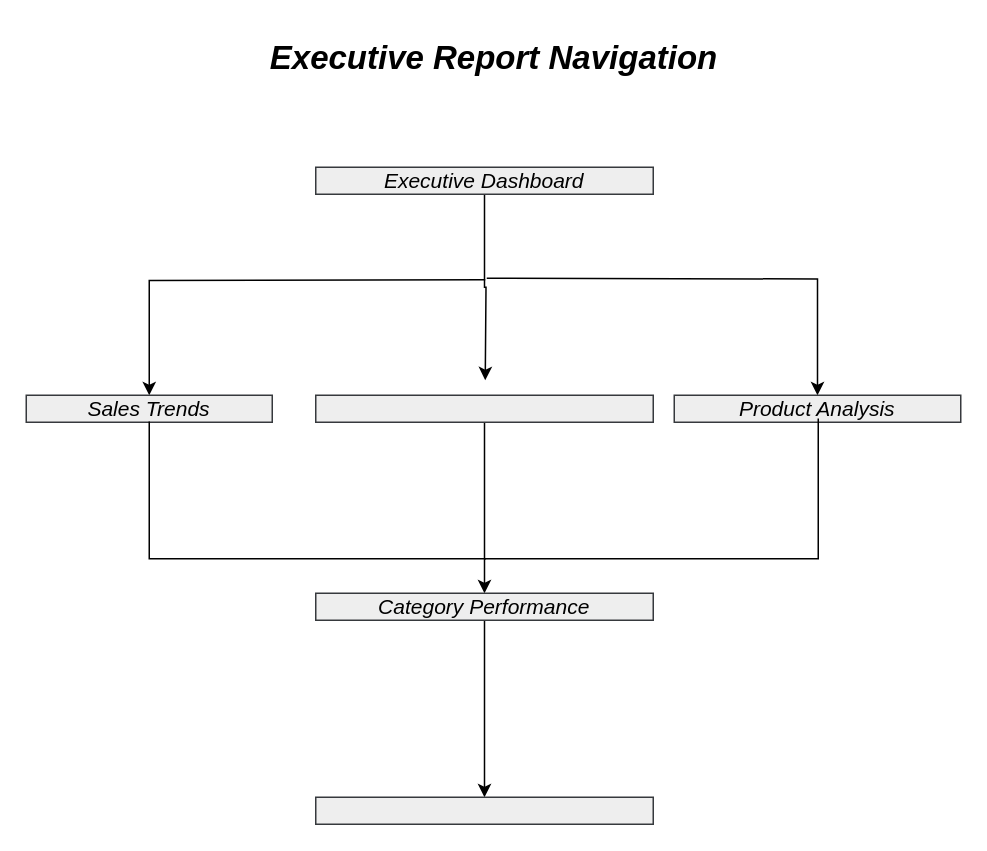
Image size: 987x851. Some labels were removed from this diagram. Each missing label, with the centre of its shape:
Customers Analytics: (x=483, y=408)
Executive Decision Making: (x=483, y=810)
